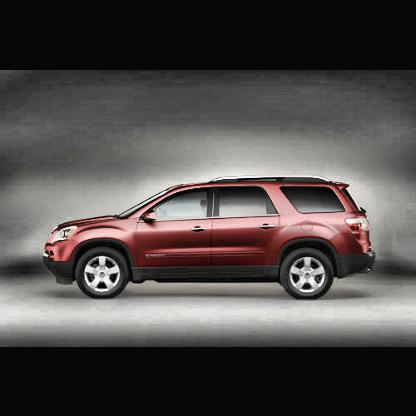GMC Acadia SUV 2012: (41, 174, 377, 303)
